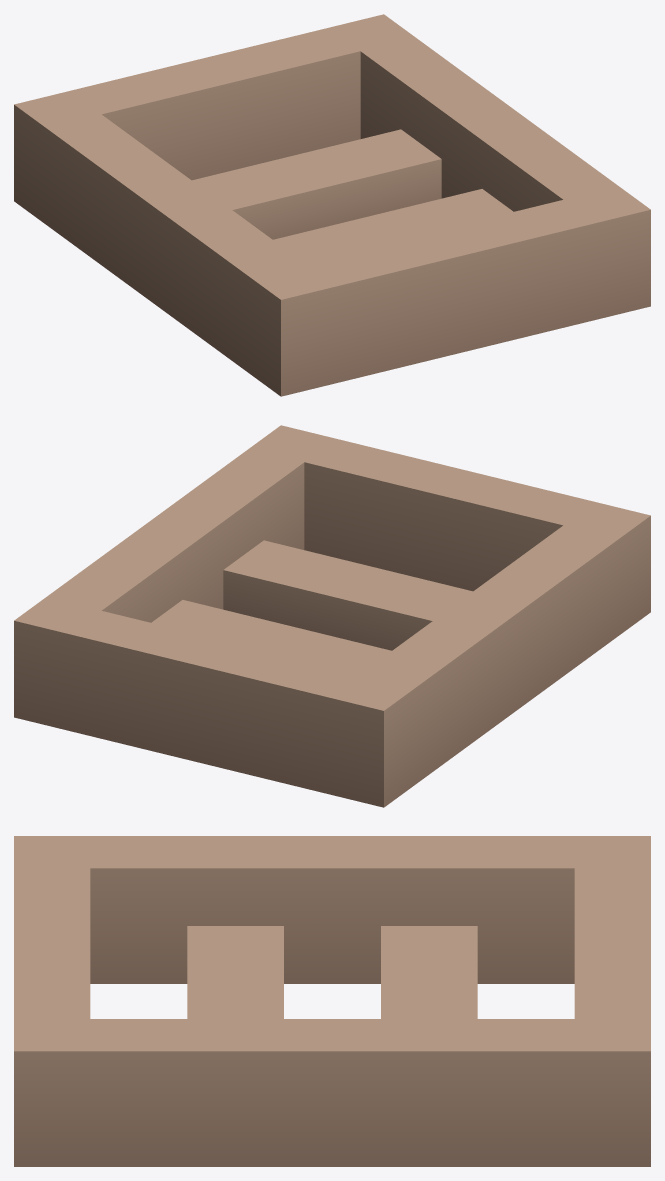
The model's file is soap-rack-square (%wall).glb.
3 views of the same model, one above another, from view 1: azimuth 30°, elevation 25°; view 2: azimuth 150°, elevation 25°; view 3: azimuth 270°, elevation 25° (orthographic). The views are drawn at different scales.
Visible parts, largest first — view 1: soap-rack-square (%wall); view 2: soap-rack-square (%wall); view 3: soap-rack-square (%wall).
Boxes of the visible parts, left/top/right/bottom form: soap-rack-square (%wall): left=14, top=14, right=650, bottom=396; soap-rack-square (%wall): left=14, top=425, right=650, bottom=807; soap-rack-square (%wall): left=14, top=836, right=650, bottom=1166.
Bounding box in the file's own units: 0.2 × 0.05 × 0.25.
